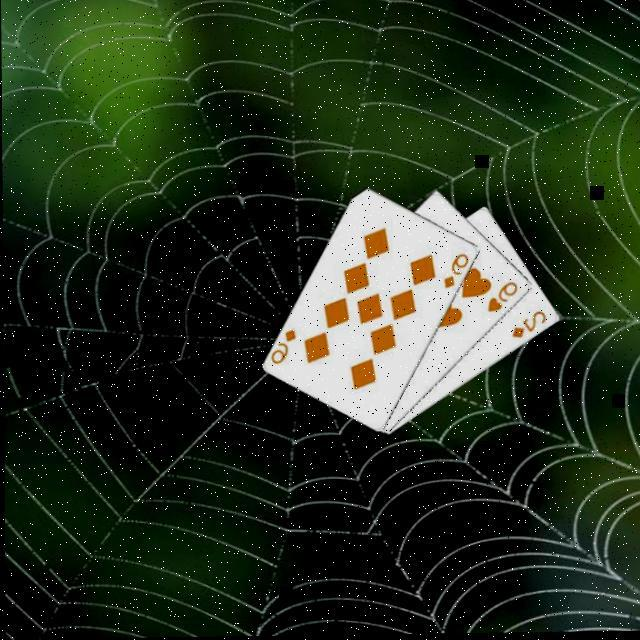2D: (509, 311, 550, 345)
9D: (441, 253, 473, 294), (268, 329, 300, 370)
9H: (485, 281, 521, 317)
